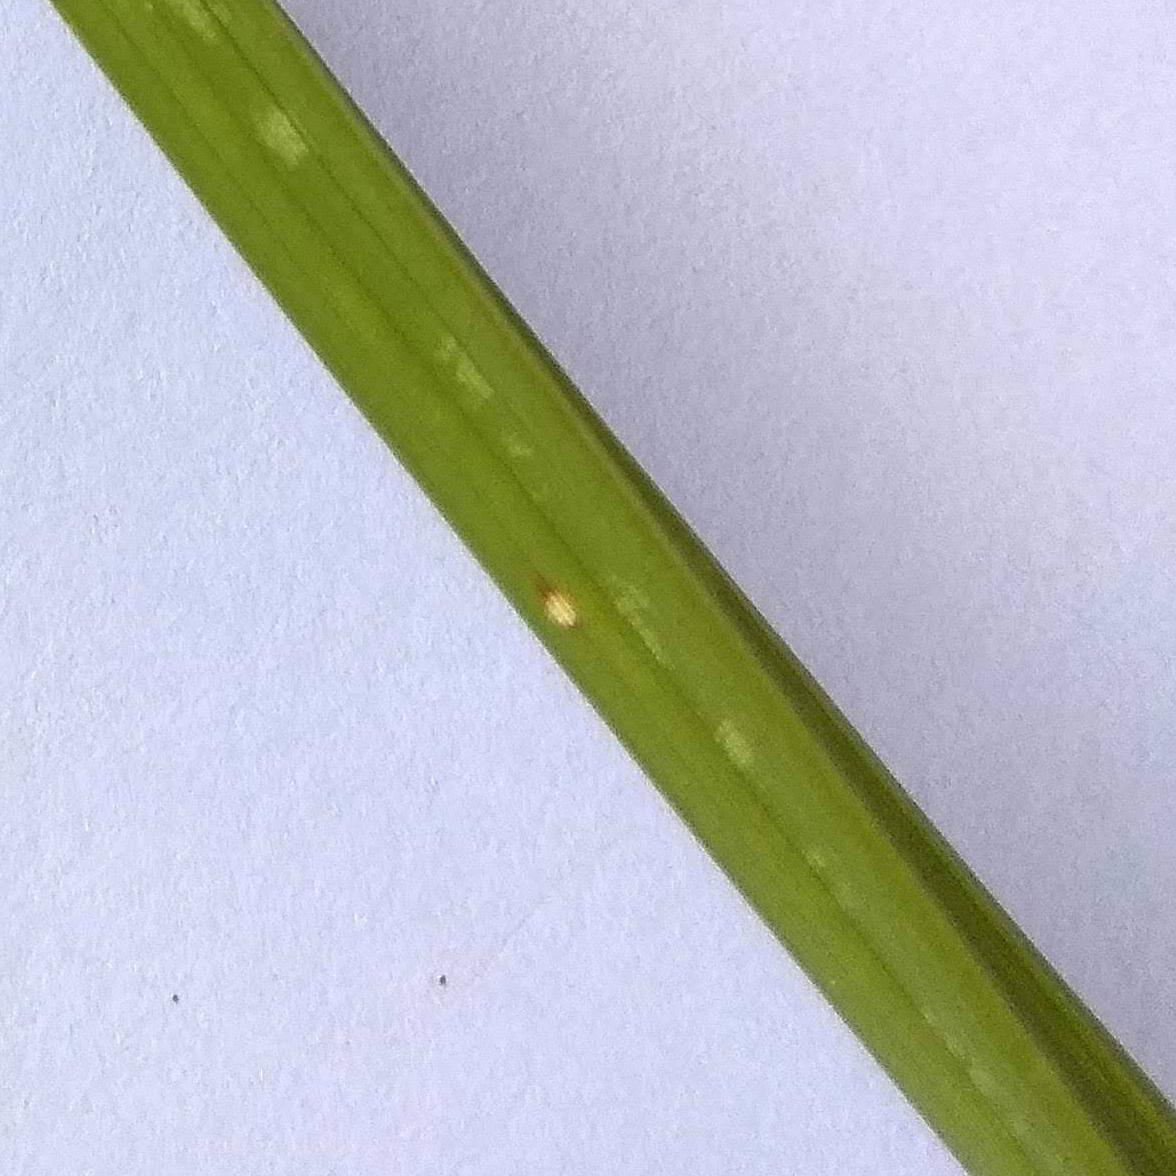1 RiceBlast: (529, 562, 577, 633)
